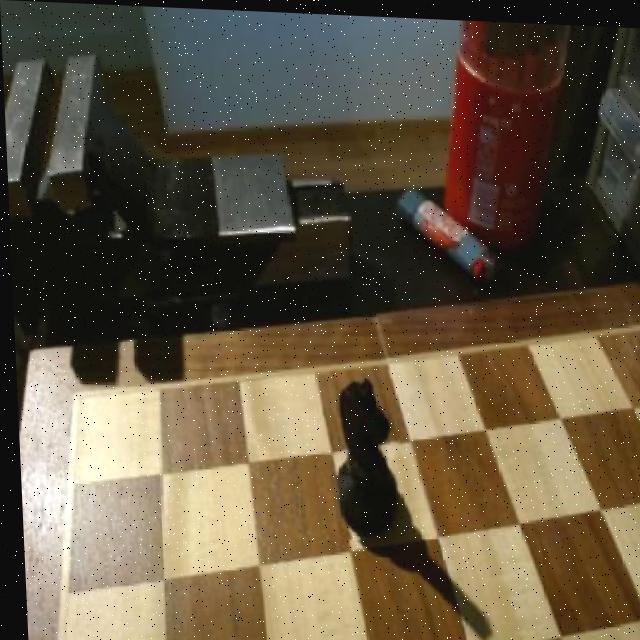black-king: (317, 366, 400, 539)
